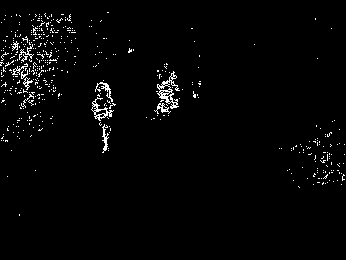person: (90, 80, 115, 155)
